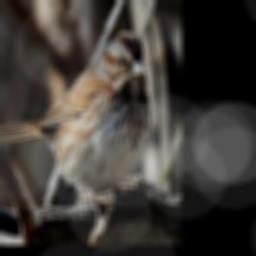Sparrow: (0, 28, 151, 219)
